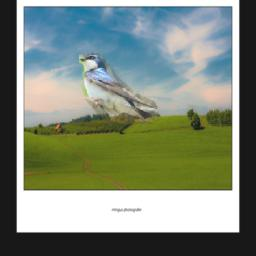Swallow: (79, 53, 158, 126)
